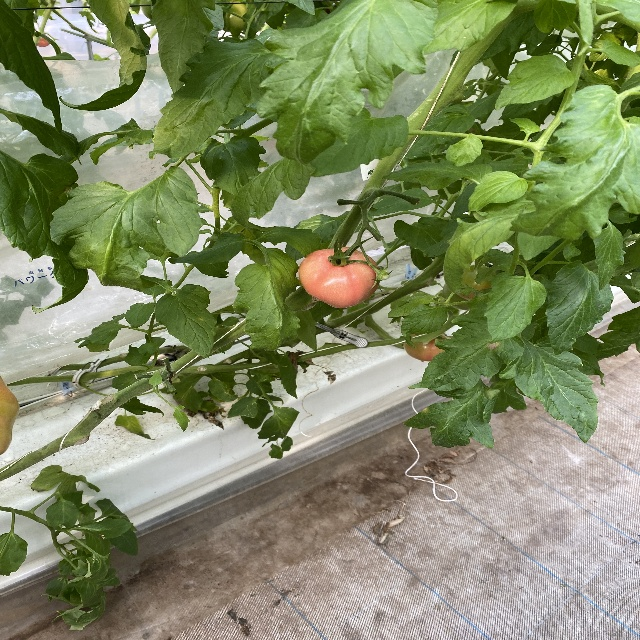b_half_ripened: (299, 247, 379, 309), (404, 333, 449, 362)
